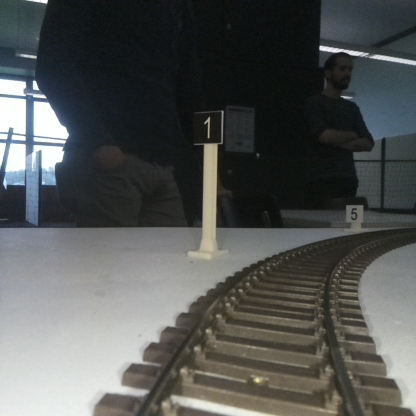black-info-1: (195, 112, 221, 257)
white-stop-5: (346, 204, 363, 230)
